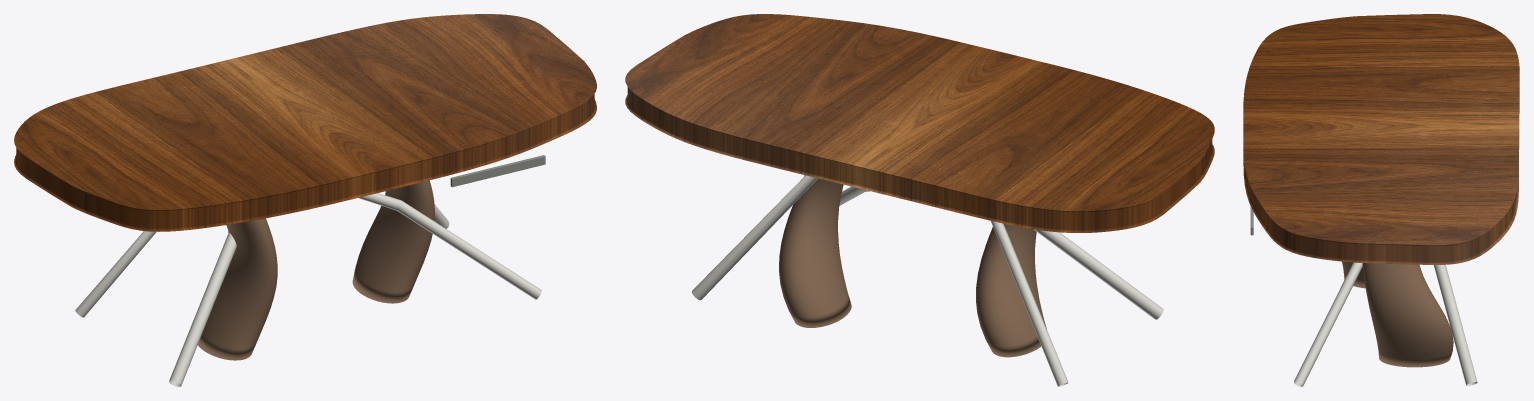
File: room_l2_img2_observation_dining_table.glb
The picture shows the model from 3 angles, left to right: view 1: azimuth 30°, elevation 25°; view 2: azimuth 150°, elevation 25°; view 3: azimuth 270°, elevation 25°; orthographic projection. The views are drawn at different scales.
Visible parts, largest first — view 1: table_gallery_live_edge_walnut_top, table_flowing_walnut_pedestal_a, table_flowing_walnut_pedestal_b, table_smoked_chrome_sculptural_arc_b, table_smoked_chrome_sculptural_arc_a, table_underside_hidden_service_seam; view 2: table_gallery_live_edge_walnut_top, table_flowing_walnut_pedestal_b, table_flowing_walnut_pedestal_a, table_smoked_chrome_sculptural_arc_a, table_smoked_chrome_sculptural_arc_b; view 3: table_gallery_live_edge_walnut_top, table_flowing_walnut_pedestal_b, table_smoked_chrome_sculptural_arc_a, table_smoked_chrome_sculptural_arc_b, table_flowing_walnut_pedestal_a.
Boxes of the visible parts, x1=… form: table_gallery_live_edge_walnut_top: x1=14, y1=14, x2=596, y2=231; table_flowing_walnut_pedestal_a: x1=198, y1=218, x2=277, y2=360; table_flowing_walnut_pedestal_b: x1=352, y1=180, x2=434, y2=303; table_smoked_chrome_sculptural_arc_b: x1=75, y1=193, x2=541, y2=317; table_smoked_chrome_sculptural_arc_a: x1=169, y1=204, x2=449, y2=386; table_underside_hidden_service_seam: x1=450, y1=155, x2=545, y2=187; table_gallery_live_edge_walnut_top: x1=625, y1=14, x2=1214, y2=232; table_flowing_walnut_pedestal_b: x1=779, y1=175, x2=851, y2=327; table_flowing_walnut_pedestal_a: x1=976, y1=224, x2=1046, y2=357; table_smoked_chrome_sculptural_arc_a: x1=692, y1=175, x2=1163, y2=319; table_smoked_chrome_sculptural_arc_b: x1=839, y1=186, x2=1068, y2=386; table_gallery_live_edge_walnut_top: x1=1243, y1=14, x2=1519, y2=264; table_flowing_walnut_pedestal_b: x1=1362, y1=263, x2=1453, y2=367; table_smoked_chrome_sculptural_arc_a: x1=1434, y1=264, x2=1477, y2=385; table_smoked_chrome_sculptural_arc_b: x1=1294, y1=262, x2=1362, y2=386; table_flowing_walnut_pedestal_a: x1=1342, y1=261, x2=1365, y2=288.
Size of the model in its own units: 1.89 by 0.7275 by 0.9573.
4 materials, 1 textured.
